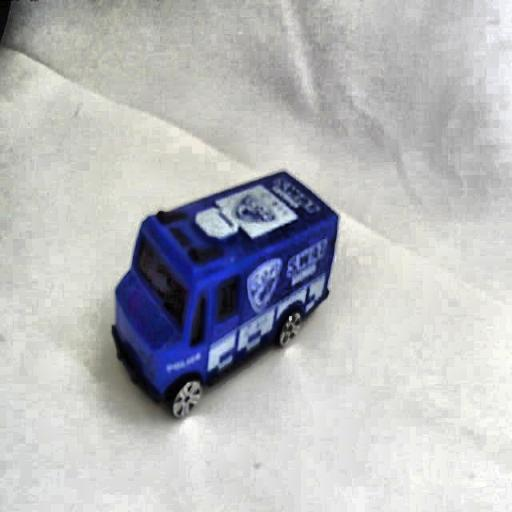police car: (106, 170, 340, 420)
